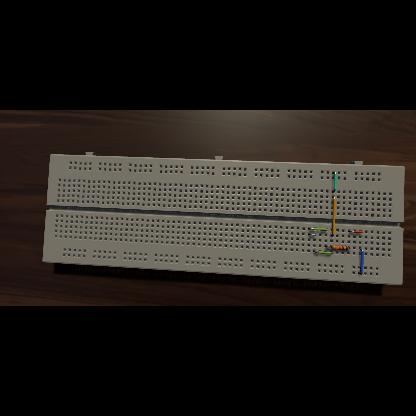breadboard: (43, 152, 405, 286)
resistor: (332, 245, 348, 250)
wire: (330, 198, 336, 236), (358, 249, 364, 275), (332, 172, 336, 192), (308, 228, 328, 232), (313, 251, 333, 254), (348, 231, 362, 233), (308, 234, 316, 236), (324, 246, 332, 248), (348, 247, 350, 249)
